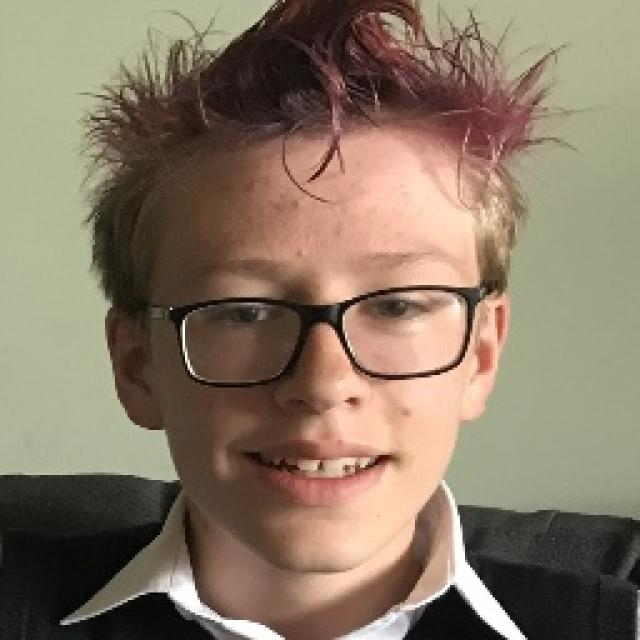earlobe: (122, 403, 166, 432), (462, 393, 488, 424)
eye: (198, 300, 284, 329), (360, 294, 434, 322)
nose: (269, 394, 373, 430)
wholeear: (102, 307, 166, 430), (463, 294, 510, 423)
